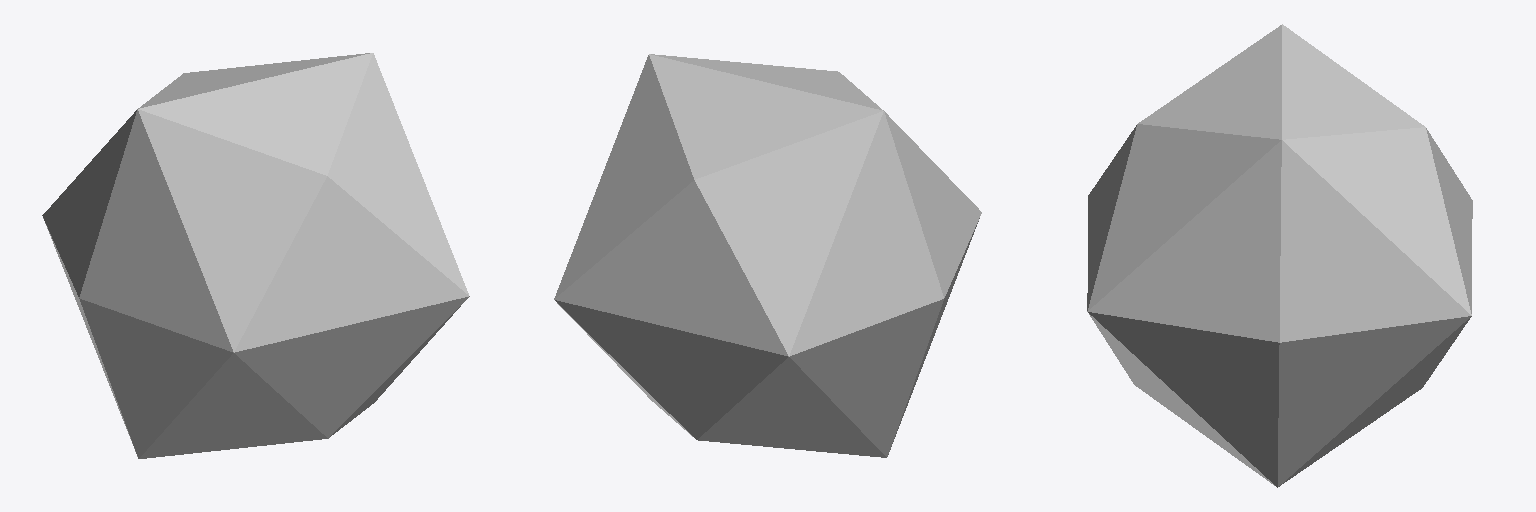
The model's file is TetraKisHexahedron.obj.
3 views of the same model, side by side, from view 1: azimuth 30°, elevation 25°; view 2: azimuth 150°, elevation 25°; view 3: azimuth 270°, elevation 25° (orthographic).
Visible parts, largest first — view 1: TetraKisHexahedron; view 2: TetraKisHexahedron; view 3: TetraKisHexahedron.
Boxes of the visible parts, x1=… form: TetraKisHexahedron: x1=42, y1=53, x2=469, y2=458; TetraKisHexahedron: x1=554, y1=54, x2=981, y2=457; TetraKisHexahedron: x1=1087, y1=24, x2=1472, y2=487.
Bounding box in the file's own units: 1.12 × 1.06 × 1.06.